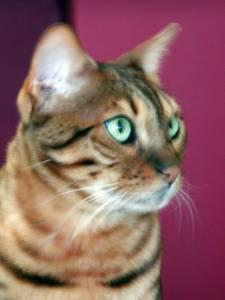cat: (0, 22, 201, 300)
